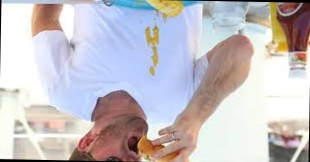mustard: (149, 24, 164, 75), (144, 26, 160, 50)
